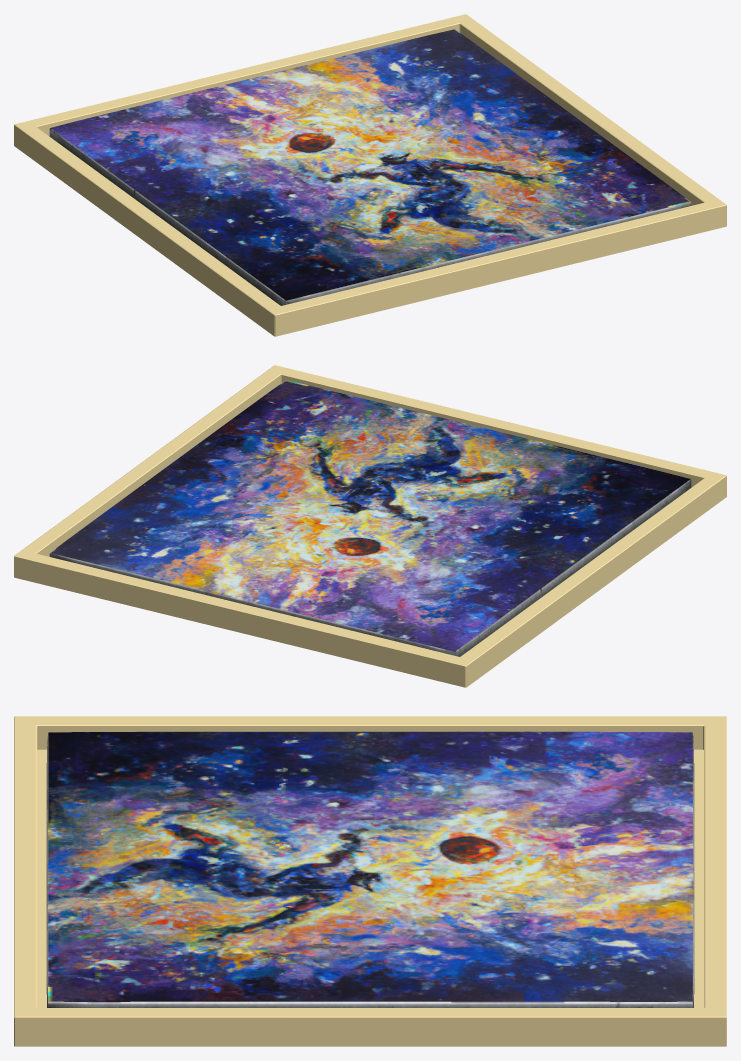
File: GG_Level1_Asset_CafeArt7_007.fbx
The picture shows the model from 3 angles, top to bottom: view 1: azimuth 30°, elevation 25°; view 2: azimuth 150°, elevation 25°; view 3: azimuth 270°, elevation 25°; orthographic projection. The views are drawn at different scales.
Visible parts, largest first — view 1: Original_frame1_cafe; view 2: Original_frame1_cafe; view 3: Original_frame1_cafe.
Boxes of the visible parts, x1=… form: Original_frame1_cafe: x1=14, y1=14, x2=726, y2=336; Original_frame1_cafe: x1=14, y1=365, x2=726, y2=687; Original_frame1_cafe: x1=14, y1=716, x2=726, y2=1046.
Size of the model in its own units: 738 by 35.17 by 738.
Materials: 1 (1 with a texture image).
